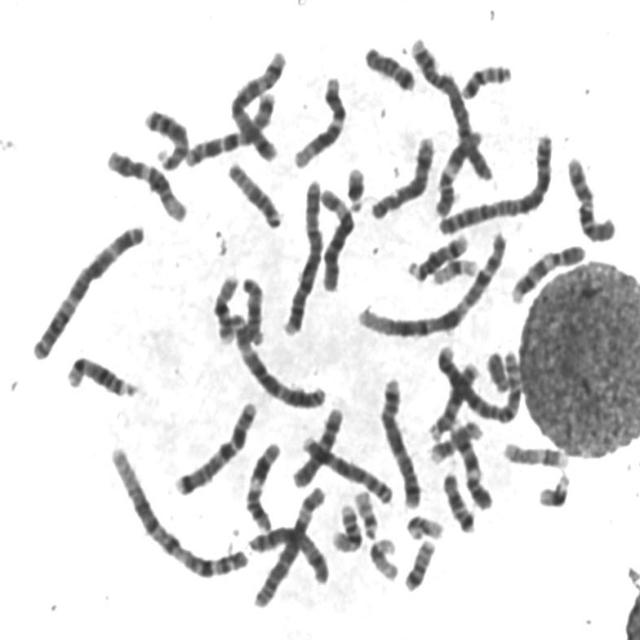A1: (104, 438, 252, 582), (351, 224, 510, 340)
A2: (431, 124, 558, 237), (431, 336, 525, 424)
A3: (24, 212, 148, 362), (225, 306, 329, 409)
B4: (405, 29, 497, 184), (276, 171, 326, 338)
B5: (225, 42, 288, 163), (374, 371, 424, 508)
C10: (561, 148, 619, 244), (286, 399, 346, 489)
C11: (429, 120, 485, 218), (239, 434, 283, 532)
C12: (100, 141, 190, 225), (288, 68, 349, 170)
C6: (248, 478, 328, 611), (314, 179, 358, 294)
C7: (169, 393, 259, 498), (178, 85, 278, 169)
C8: (296, 427, 395, 506), (364, 128, 437, 222)
C9: (505, 235, 589, 305), (445, 412, 495, 512)
D13: (423, 354, 482, 442), (138, 101, 191, 171)
D14: (61, 348, 140, 400), (402, 226, 472, 284)
D15: (222, 154, 285, 230), (236, 268, 267, 347)
E16: (207, 267, 241, 345), (326, 497, 364, 554)
E17: (424, 414, 485, 466), (498, 434, 571, 471)
E18: (358, 37, 418, 92), (438, 465, 478, 534)
F19: (426, 249, 483, 287), (363, 530, 401, 582)
F20: (456, 56, 514, 102), (398, 532, 438, 593)
G21: (532, 466, 573, 510), (341, 158, 368, 214)
G22: (349, 481, 381, 540), (401, 508, 446, 542)
Y: (481, 344, 511, 394)
